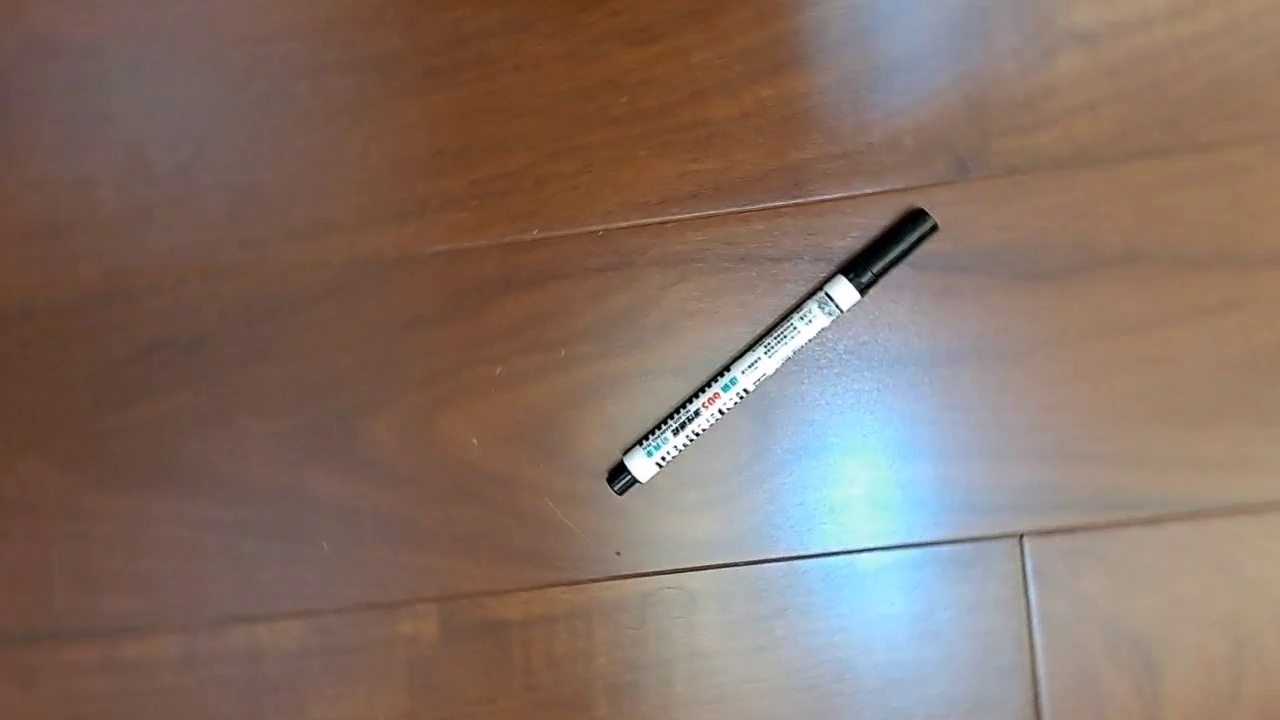pen: (605, 206, 940, 498)
